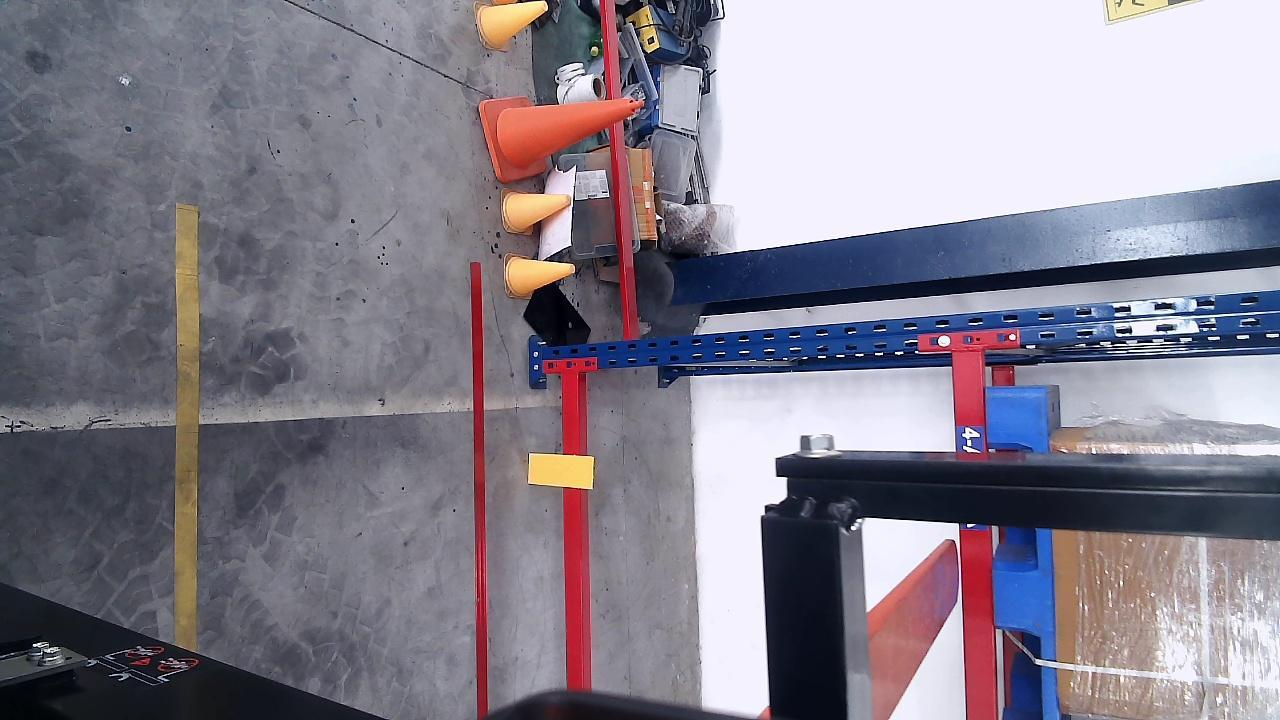h_rack: (951, 348, 1001, 720), (561, 372, 590, 689)
orange_strip: (524, 454, 592, 490)
red_line: (470, 262, 490, 715)
small_pallet: (985, 390, 1056, 717)
yellow_line: (173, 204, 198, 654)
